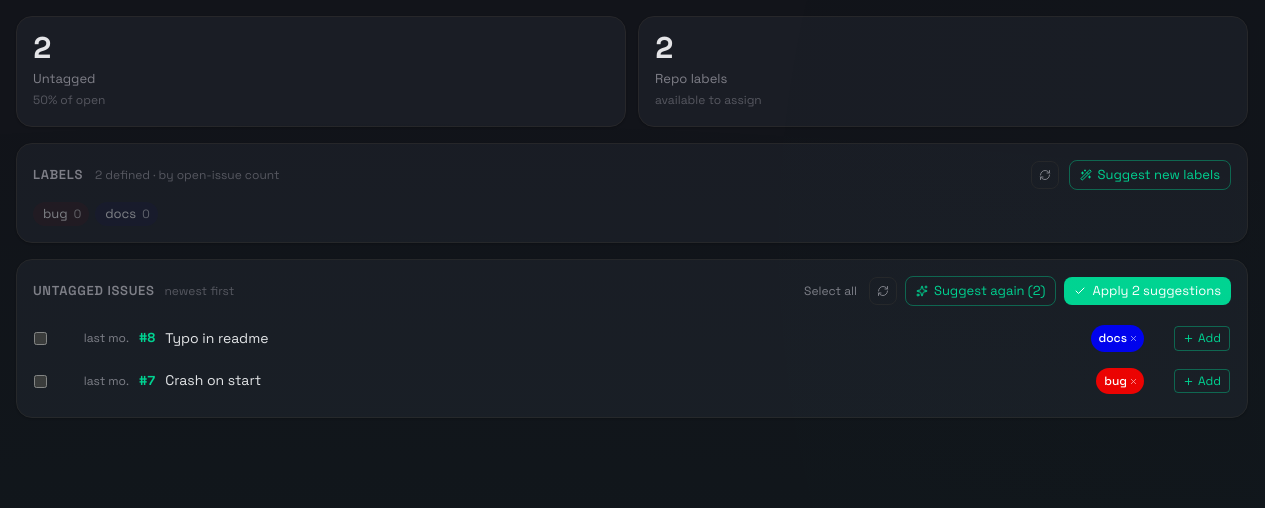
Scenario: TaggingView › clears a stale bulk banner when a single row is retried
Click the button "Apply 2 suggestions". click: (1148, 291)
box: [1064,277,1231,305]
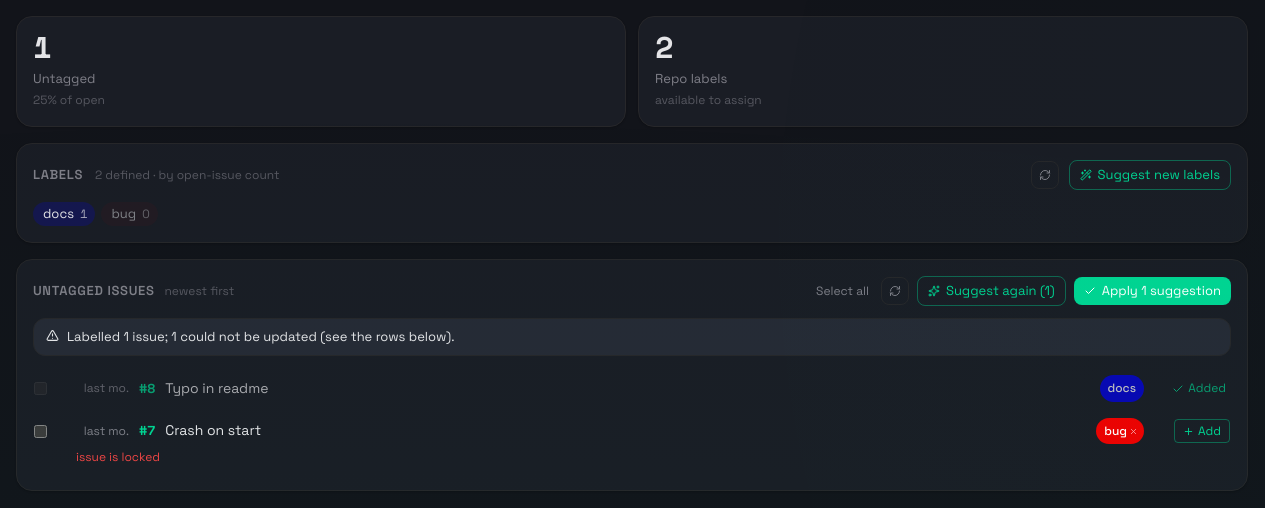
Check: the text "1 could not be updated" is shown, box [67,328,454,345]
Click the button with aria-label "Add labels to #7". click: (1202, 431)
box: [1174,419,1230,444]
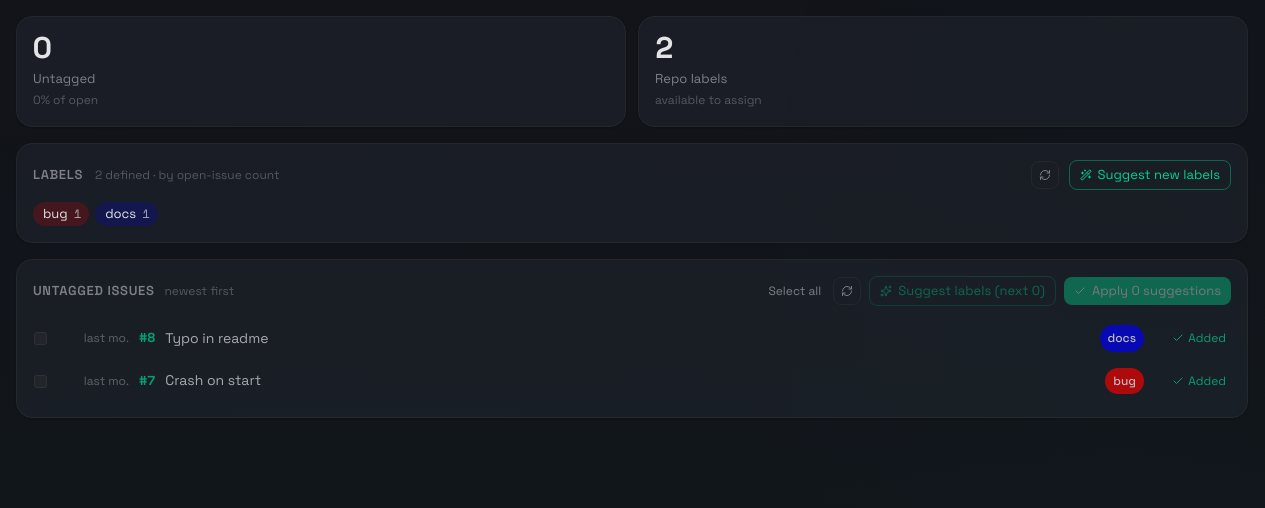
Check: the text "could not be updated" is gone
